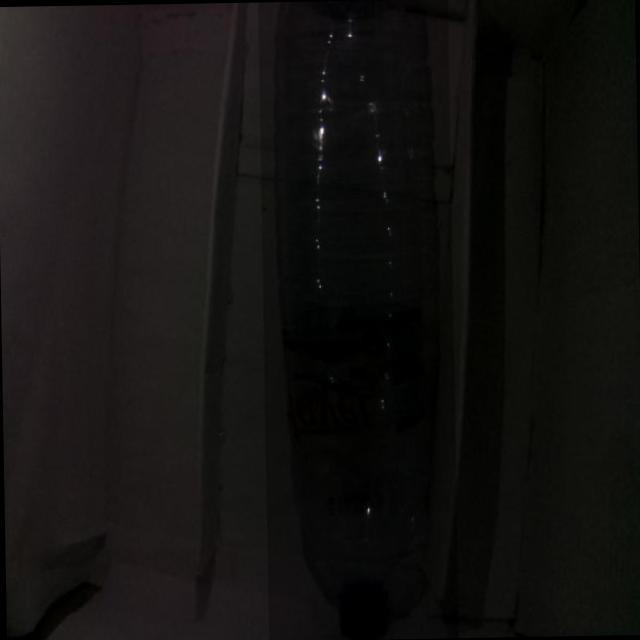good: (256, 0, 457, 640)
